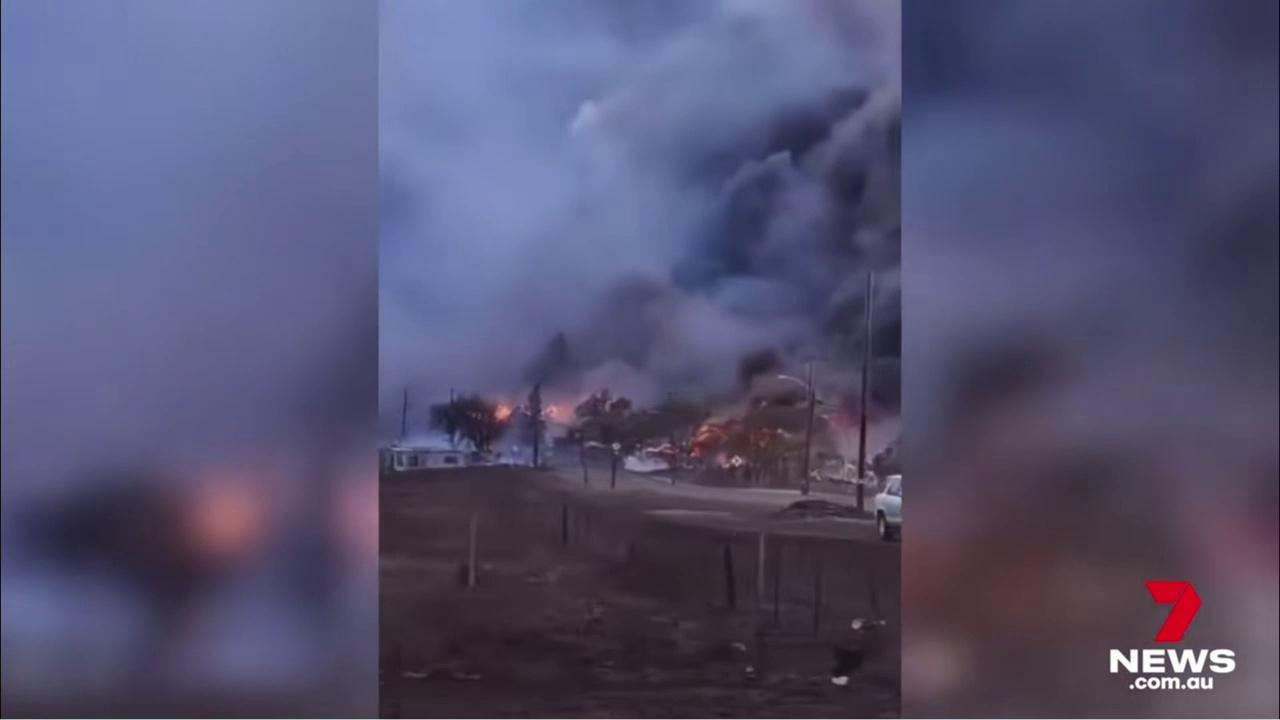fire: (688, 422, 726, 460), (536, 399, 564, 421), (491, 402, 516, 421)
smoke: (380, 0, 898, 456)
